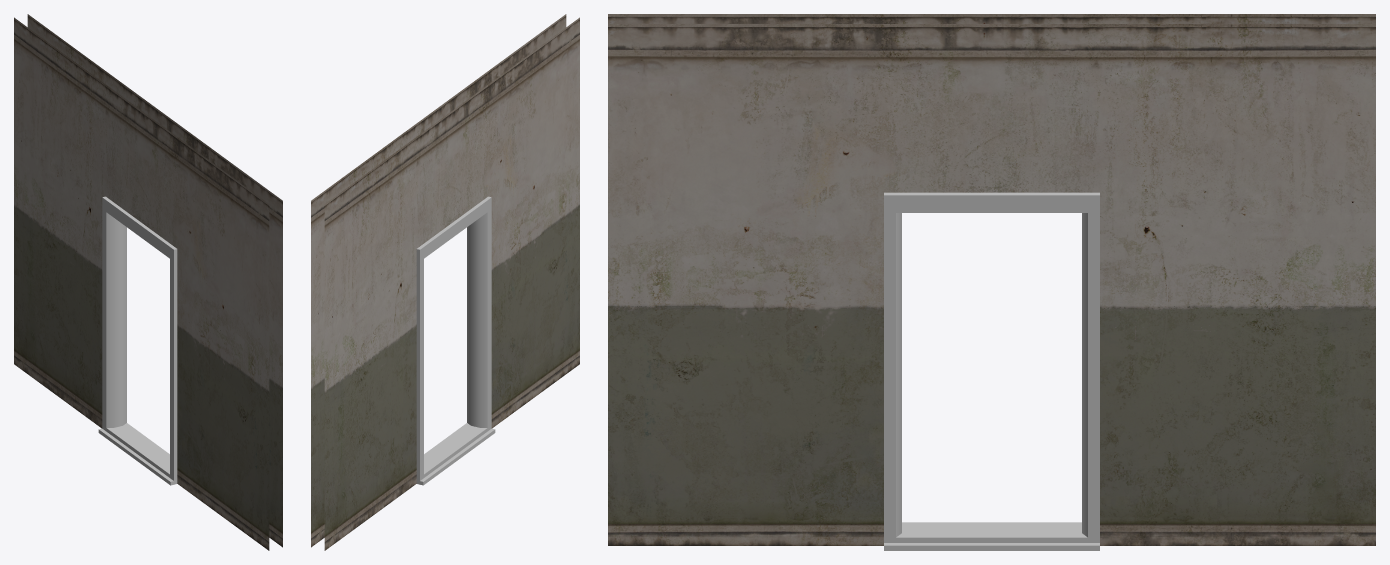
Rendered from wall_doorsmall_tile_5m.fbx.
3 renders of one model, left to right at view 1: azimuth 30°, elevation 25°; view 2: azimuth 150°, elevation 25°; view 3: azimuth 270°, elevation 25°, orthographic. The views are drawn at different scales.
Parts seen in each view (by area): view 1: wall_doorsmall_tile_5m; view 2: wall_doorsmall_tile_5m; view 3: wall_doorsmall_tile_5m.
Part boxes in pixels (x1=…): wall_doorsmall_tile_5m: x1=14, y1=14, x2=282, y2=550; wall_doorsmall_tile_5m: x1=311, y1=14, x2=579, y2=550; wall_doorsmall_tile_5m: x1=608, y1=14, x2=1375, y2=550.
Bounding box in the file's own units: 0.3125 × 3.75 × 5.
